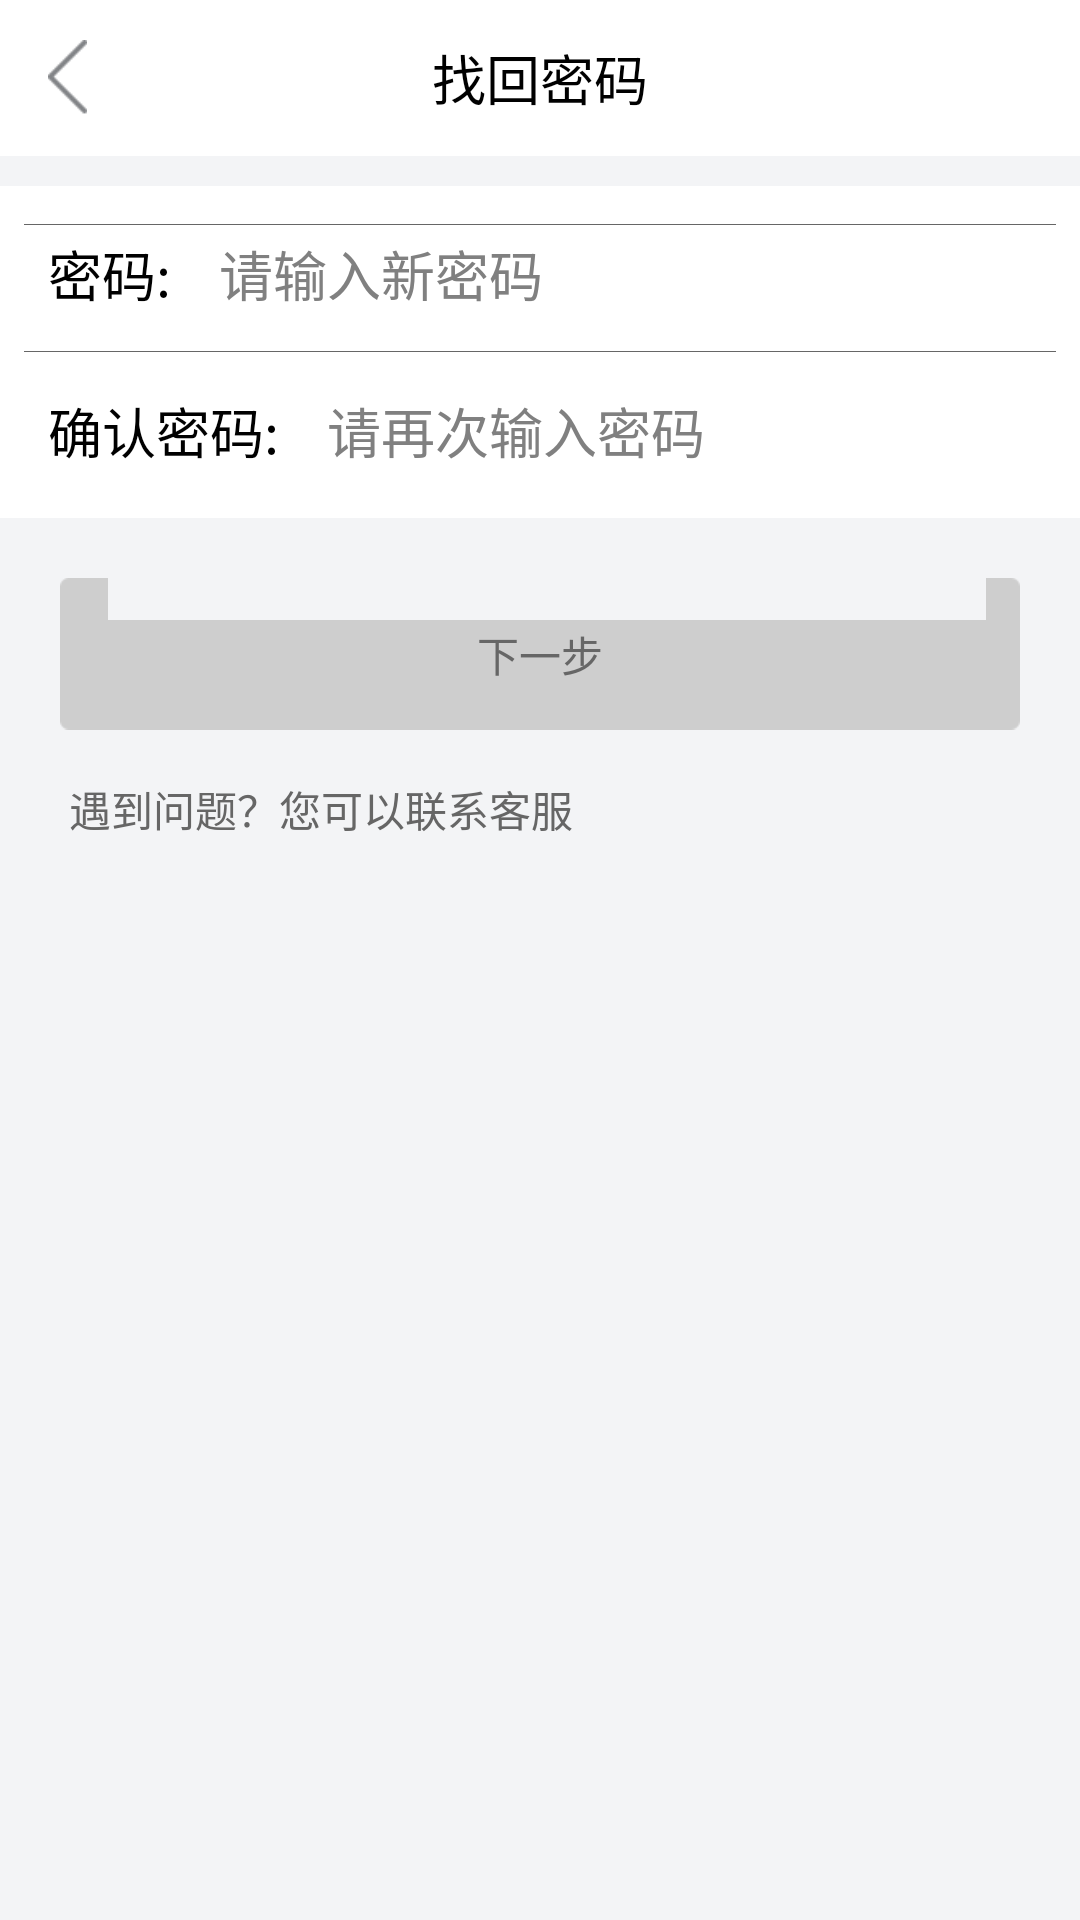

Screen size 1080 × 1920. Icon name, then its center in pixels as (x,y):
back: (67,77)
